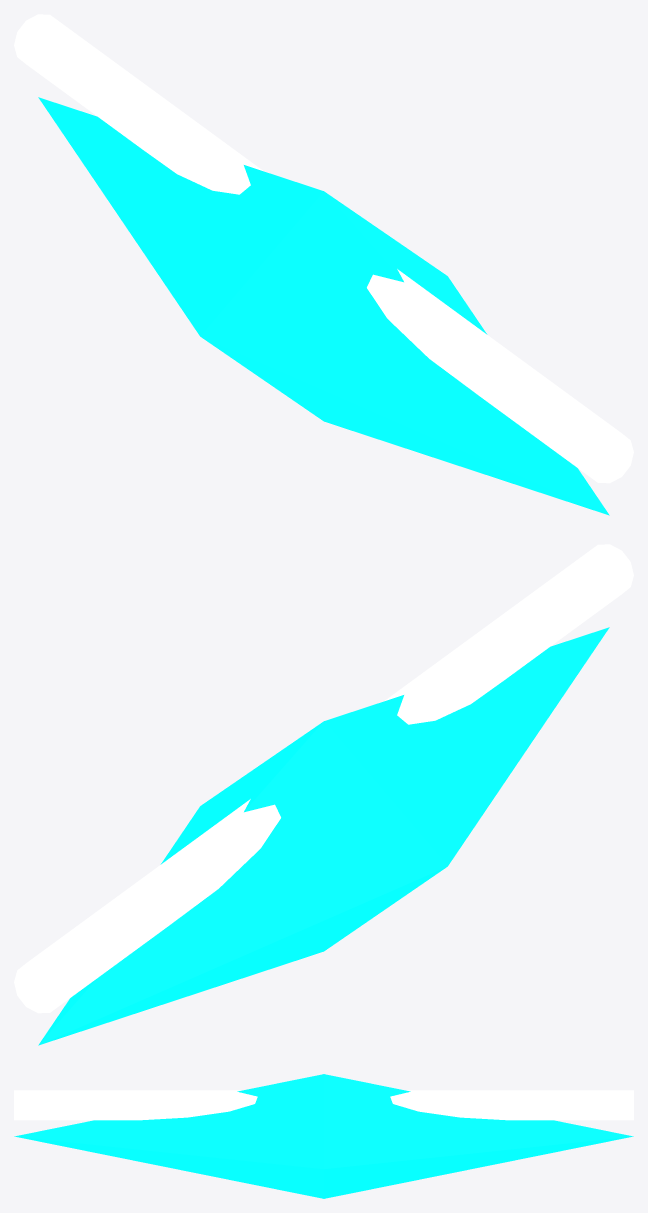
The model's file is pulse_blaster.glb.
3 renders of one model, top to bottom at view 1: azimuth 30°, elevation 25°; view 2: azimuth 150°, elevation 25°; view 3: azimuth 270°, elevation 25°, orthographic. The views are drawn at different scales.
Parts seen in each view (by area): view 1: PulseBlasterFacetedBolt, PulseBlasterWhiteRailCore; view 2: PulseBlasterFacetedBolt, PulseBlasterWhiteRailCore; view 3: PulseBlasterFacetedBolt, PulseBlasterWhiteRailCore.
Boxes of the visible parts, x1,y1,x2,y2 form: PulseBlasterFacetedBolt: (38,97,609,515); PulseBlasterWhiteRailCore: (14,14,633,483); PulseBlasterFacetedBolt: (38,627,609,1045); PulseBlasterWhiteRailCore: (14,544,633,1013); PulseBlasterFacetedBolt: (14,1074,633,1198); PulseBlasterWhiteRailCore: (14,1090,633,1120).
Bounding box in the file's own units: 0.4032 × 0.3584 × 1.61.
